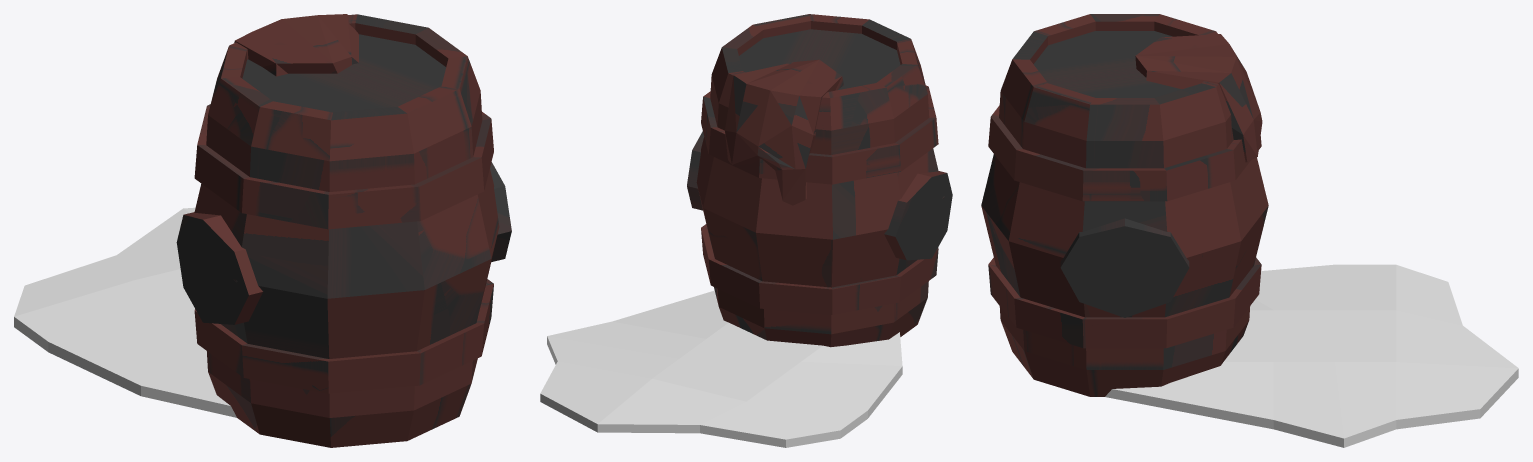
Rendered from ExplosiveBarrel.fbx.
3 views of the same model, side by side, from view 1: azimuth 30°, elevation 25°; view 2: azimuth 150°, elevation 25°; view 3: azimuth 270°, elevation 25° (orthographic). The views are drawn at different scales.
Visible parts, largest first — view 1: Sign, Oil; view 2: Sign, Oil; view 3: Sign, Oil.
Boxes of the visible parts, x1,y1,x2,y2 form: Sign: (176, 14, 511, 447); Oil: (14, 207, 236, 417); Sign: (687, 14, 952, 347); Oil: (540, 290, 902, 447); Sign: (981, 14, 1268, 396); Oil: (1105, 264, 1518, 447).
Size of the model in its own units: 224 by 177 by 293.
Materials: 2 (1 with a texture image).
